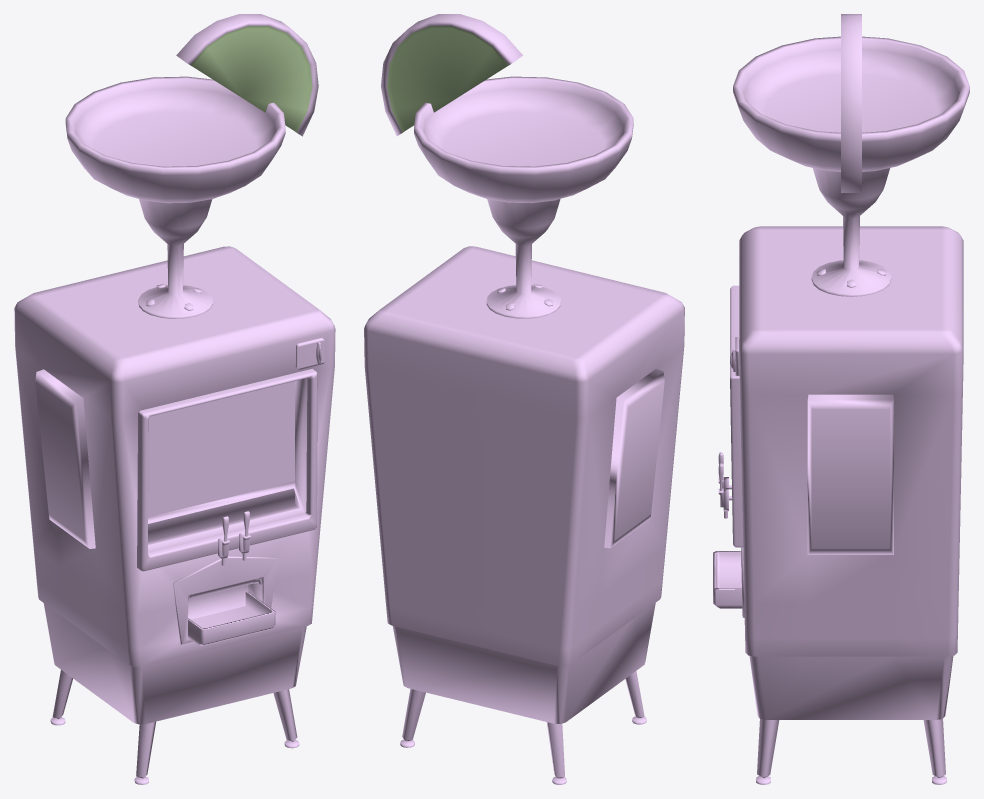
Rendered from Deadshot.fbx.
The picture shows the model from 3 angles, left to right: view 1: azimuth 30°, elevation 25°; view 2: azimuth 150°, elevation 25°; view 3: azimuth 270°, elevation 25°; orthographic projection. The views are drawn at different scales.
Visible parts, largest first — view 1: Deadshot Main, Deadshot Logo; view 2: Deadshot Main, Deadshot Logo; view 3: Deadshot Main.
Part boxes in pixels (box(x1,y1,x2,y2)): Deadshot Main: box(14, 14, 335, 784); Deadshot Logo: box(190, 26, 312, 132); Deadshot Main: box(364, 14, 684, 784); Deadshot Logo: box(387, 26, 508, 132); Deadshot Main: box(713, 14, 969, 784).
Bounding box in the file's own units: 3234 × 8286 × 2566.
